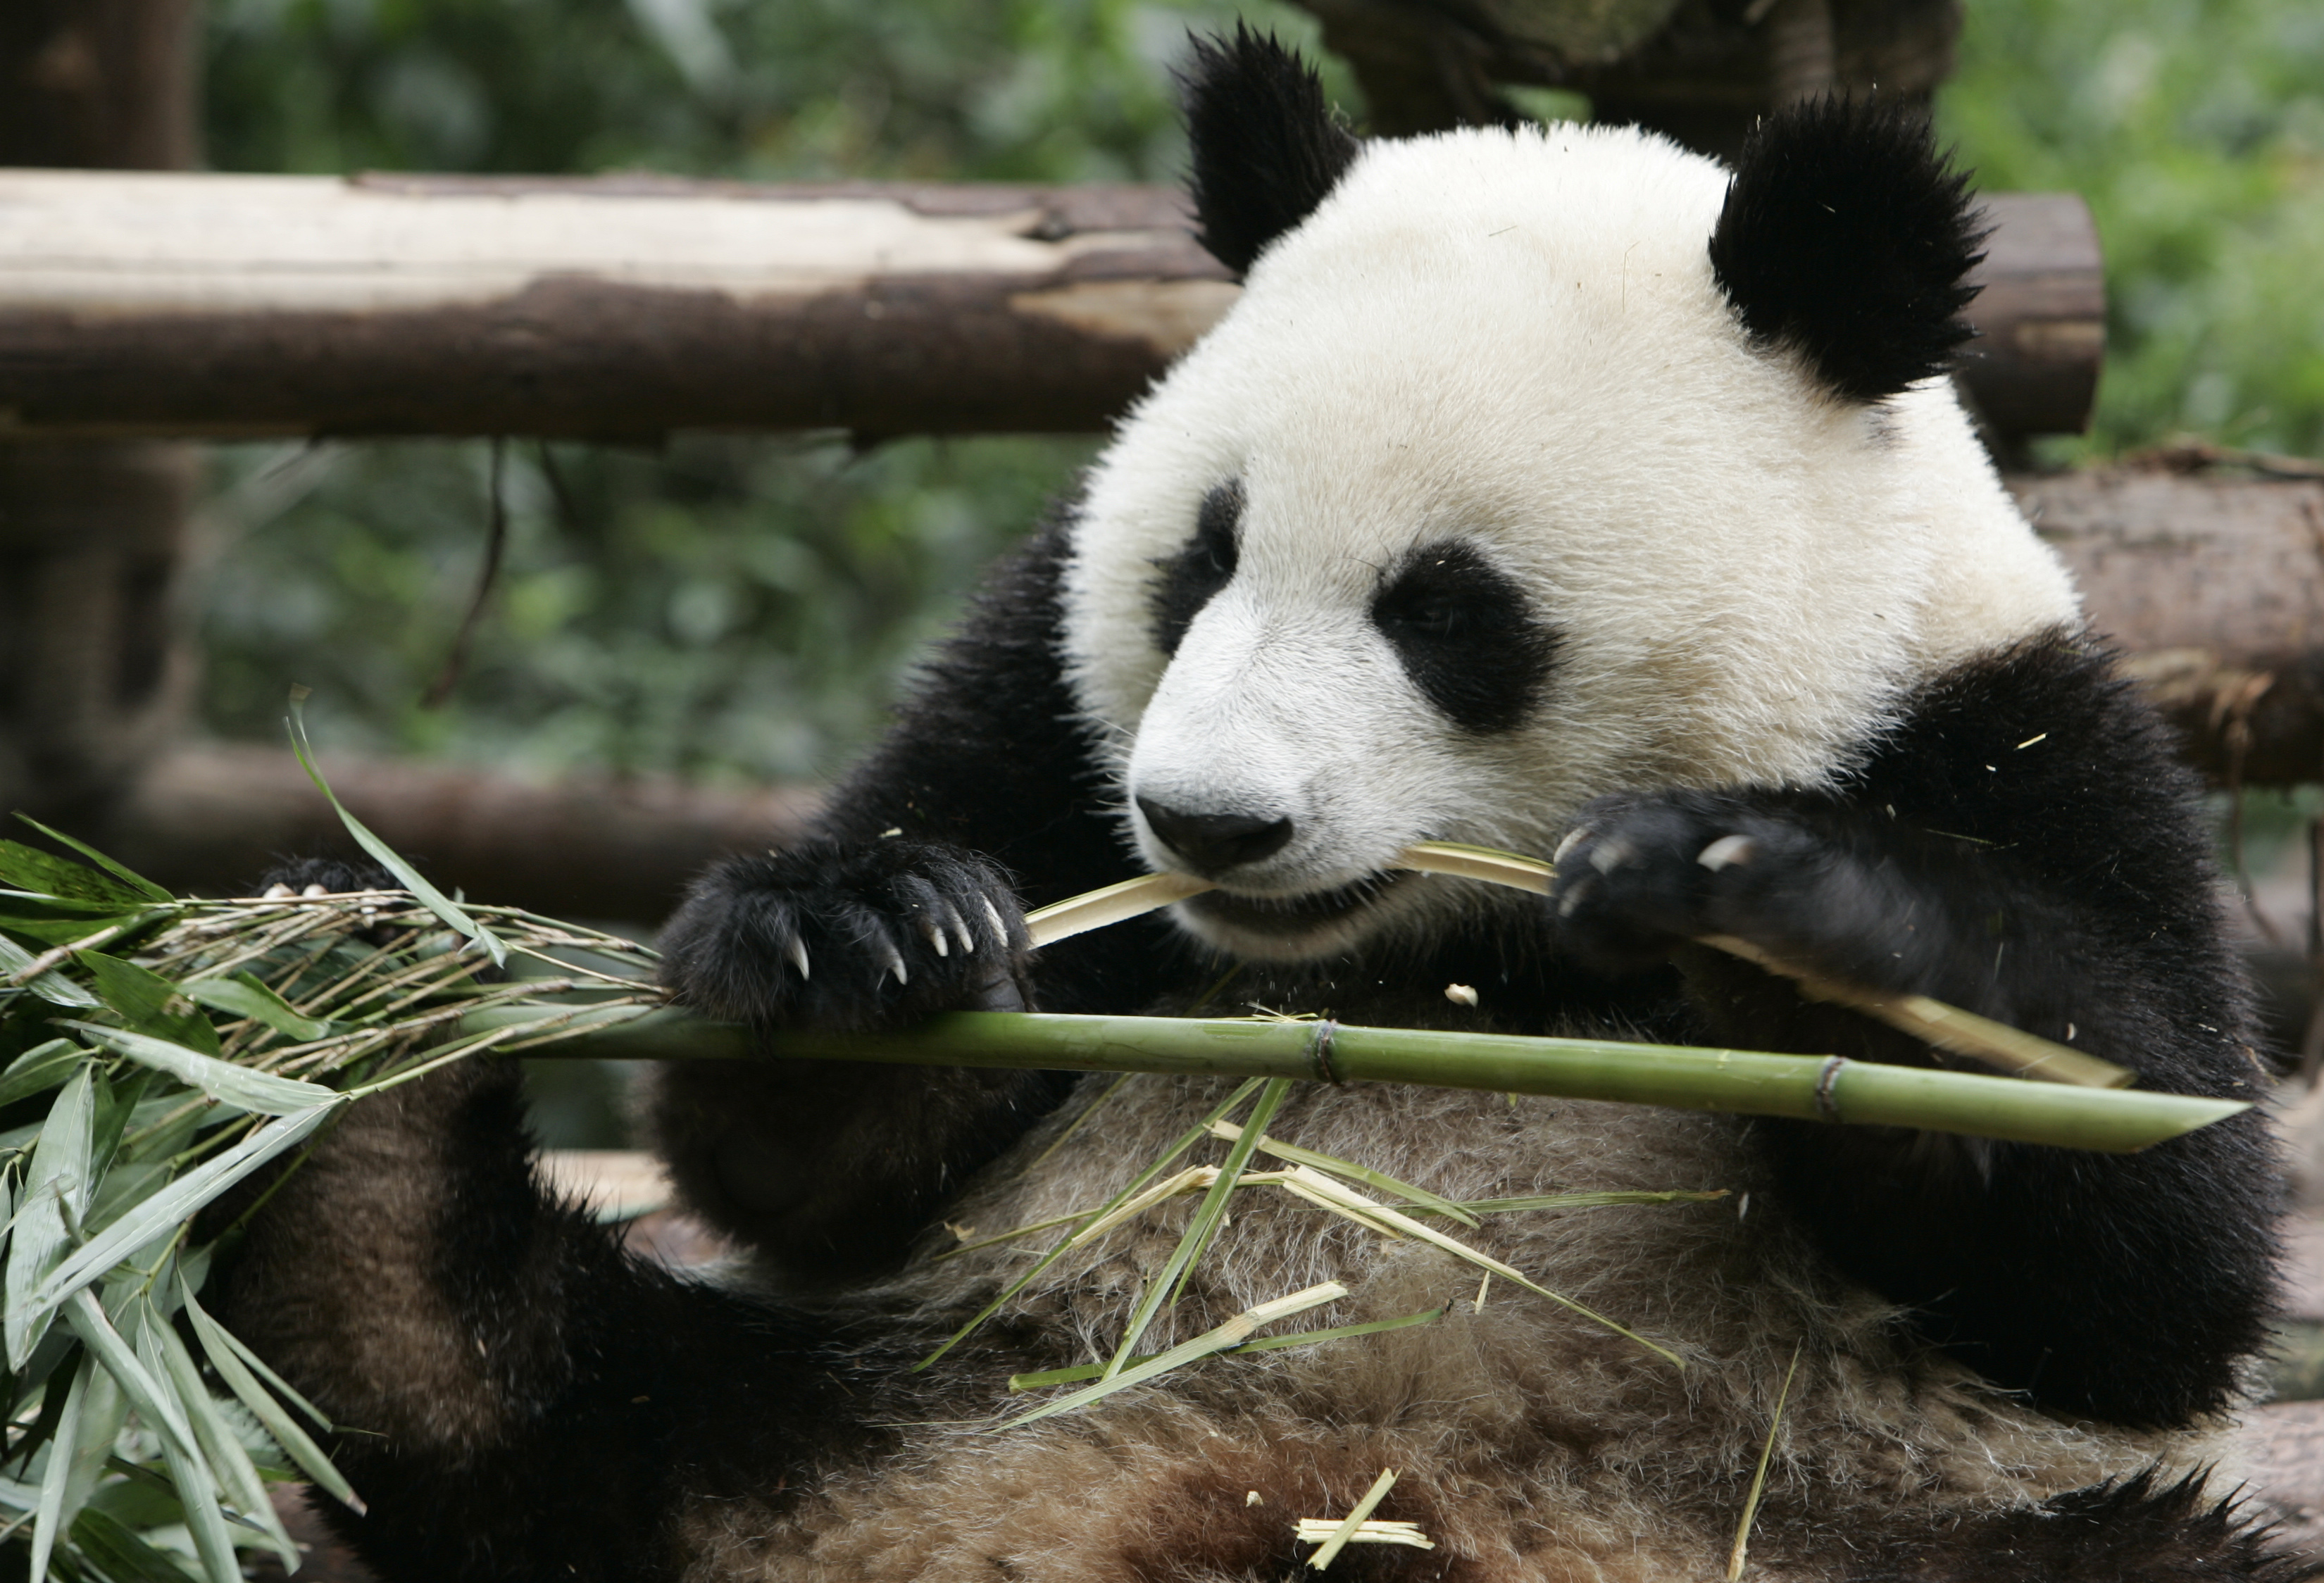panda: (560, 32, 2301, 1567)
